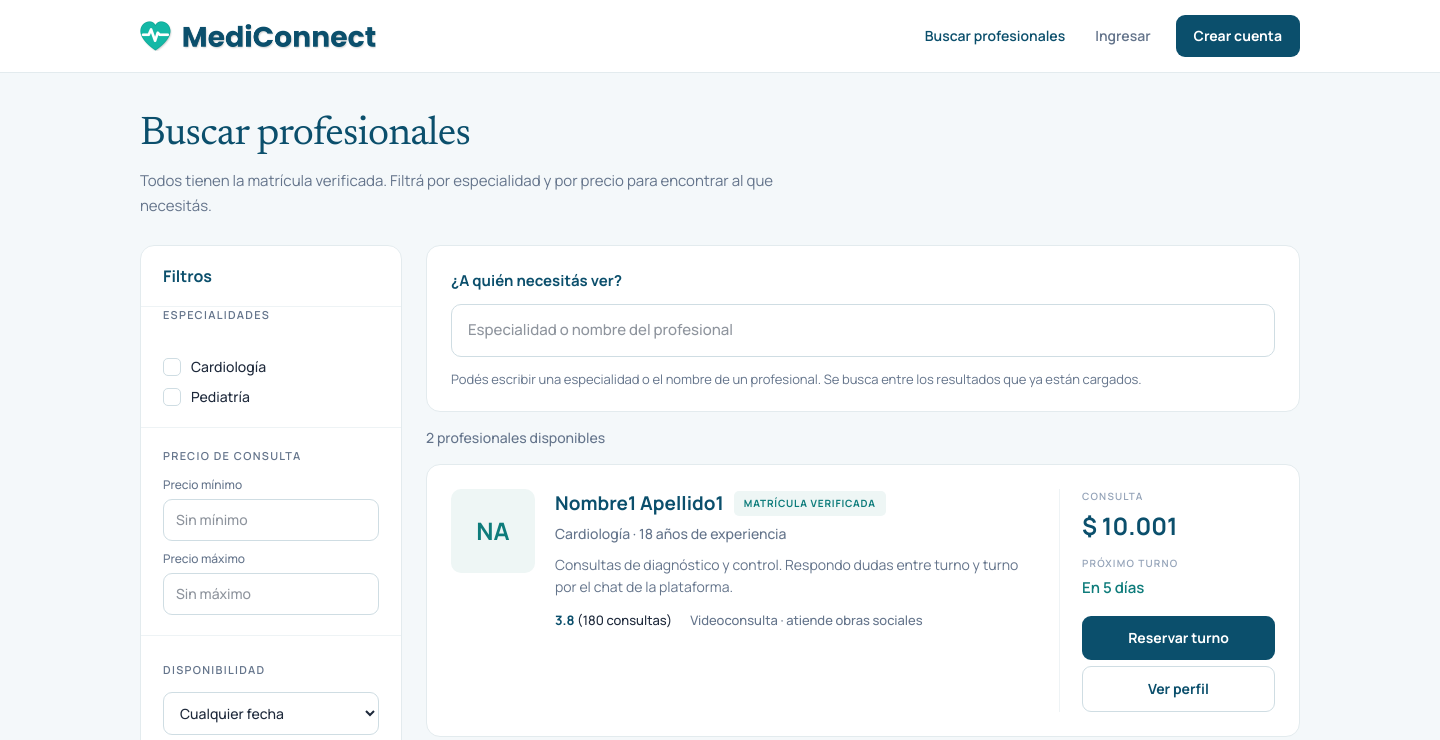
Test case: CatalogPage (ENG-49) › filtra por varias especialidades a la vez
Check: the heading "Nombre1 Apellido1" is shown, box [555, 489, 724, 518]
Click the checkbox labelled "Cardiología": coordinates (214, 366) [163, 357, 266, 376]
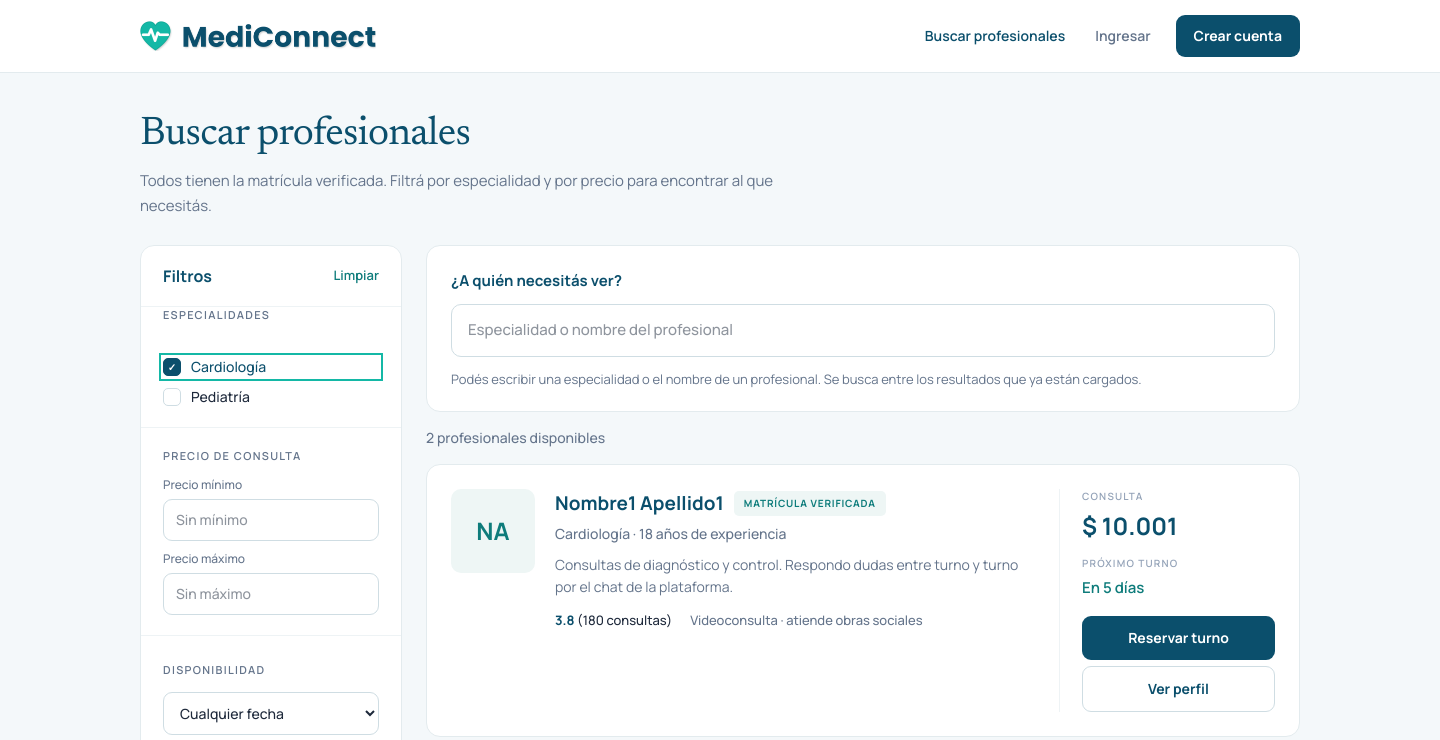
Click the checkbox labelled "Pediatría": coordinates (206, 396) [163, 387, 250, 406]
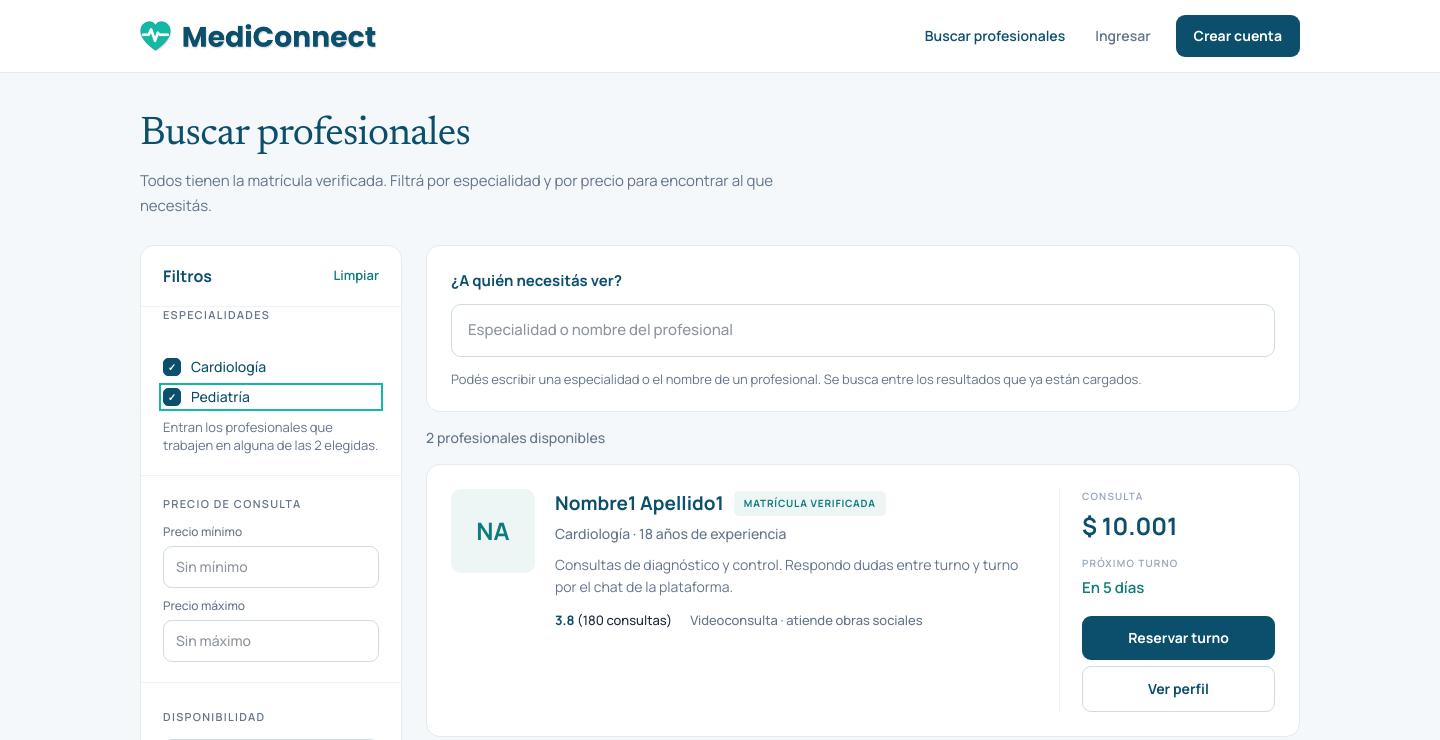
Check: the checkbox labelled "Cardiología" is checked, box [163, 357, 266, 376]
Check: the checkbox labelled "Pediatría" is checked, box [163, 387, 250, 406]
Check: the text "alguna de las 2 elegidas" is shown, box [163, 419, 379, 455]
